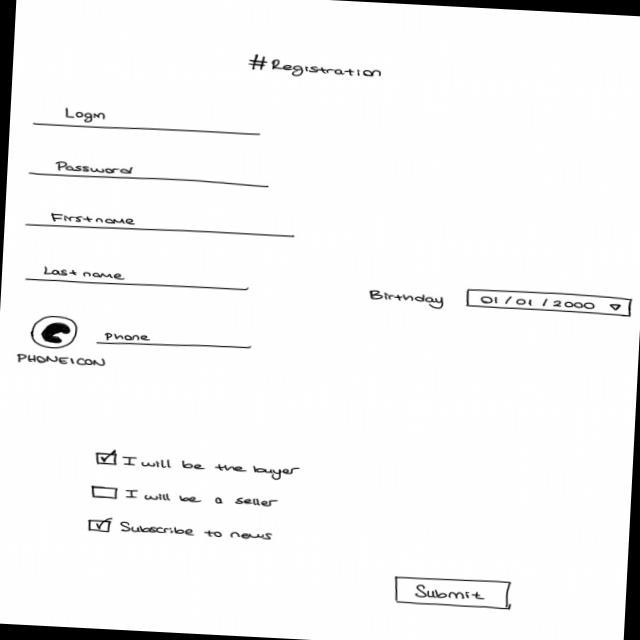button: (392, 574, 515, 612)
checkbox: (94, 448, 303, 483), (90, 484, 281, 511), (88, 517, 276, 544)
icon-button: (31, 314, 81, 351)
input: (25, 209, 300, 242), (31, 105, 264, 140), (23, 262, 254, 296), (28, 160, 273, 191), (95, 329, 254, 355)
label: (246, 54, 386, 84), (367, 287, 449, 312), (14, 352, 110, 371)
select: (466, 288, 636, 319)
